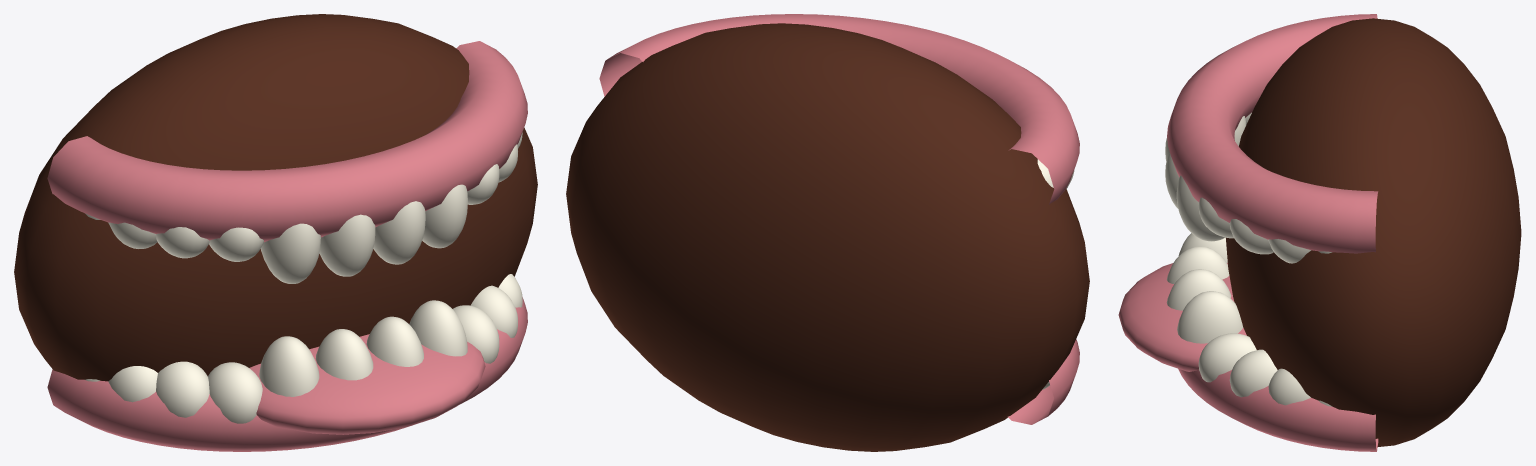
Rendered from mouth-rodent-healthy.glb.
3 renders of one model, left to right at view 1: azimuth 30°, elevation 25°; view 2: azimuth 150°, elevation 25°; view 3: azimuth 270°, elevation 25°, orthographic. The views are drawn at different scales.
Parts seen in each view (by area): view 1: oral cavity, gingiva.007, tongue.003, gingiva.006, tooth.156, tooth.168, tooth.155, tooth.169, tooth.154, tooth.159, tooth.170, tooth.157 (+9 smaller); view 2: oral cavity, gingiva.007, gingiva.006; view 3: oral cavity, gingiva.007, gingiva.006, tongue.003, tooth.159, tooth.160, tooth.161, tooth.158, tooth.157, tooth.171, tooth.162, tooth.173 (+4 smaller).
Boxes of the visible parts, bbox=[...] form: oral cavity: bbox=[14, 14, 537, 381]; gingiva.007: bbox=[47, 41, 527, 242]; tongue.003: bbox=[249, 334, 485, 434]; gingiva.006: bbox=[47, 297, 527, 451]; tooth.156: bbox=[259, 336, 319, 396]; tooth.168: bbox=[260, 223, 320, 283]; tooth.155: bbox=[208, 362, 262, 423]; tooth.169: bbox=[319, 214, 375, 276]; tooth.154: bbox=[156, 361, 209, 417]; tooth.159: bbox=[409, 300, 467, 356]; tooth.170: bbox=[373, 201, 425, 264]; tooth.157: bbox=[315, 329, 373, 380]; oral cavity: bbox=[566, 23, 1089, 451]; gingiva.007: bbox=[599, 14, 1079, 204]; gingiva.006: bbox=[1008, 339, 1079, 424]; oral cavity: bbox=[1226, 18, 1521, 446]; gingiva.007: bbox=[1167, 14, 1378, 253]; gingiva.006: bbox=[1178, 368, 1378, 451]; tongue.003: bbox=[1118, 263, 1246, 371]; tooth.159: bbox=[1177, 291, 1243, 343]; tooth.160: bbox=[1198, 333, 1256, 382]; tooth.161: bbox=[1229, 349, 1277, 397]; tooth.158: bbox=[1166, 269, 1231, 310]; tooth.157: bbox=[1167, 246, 1229, 283]; tooth.171: bbox=[1176, 175, 1224, 241]; tooth.162: bbox=[1268, 368, 1310, 405]; tooth.173: bbox=[1229, 219, 1273, 254].
Size of the model in its own units: 1.3 by 0.98 by 0.98.
